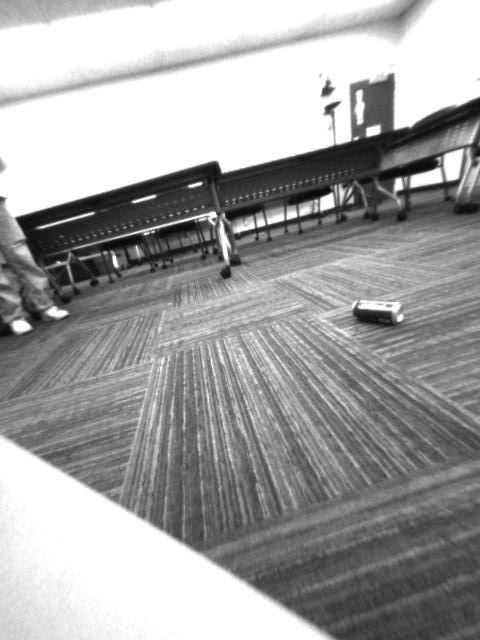can: (349, 296, 407, 327)
